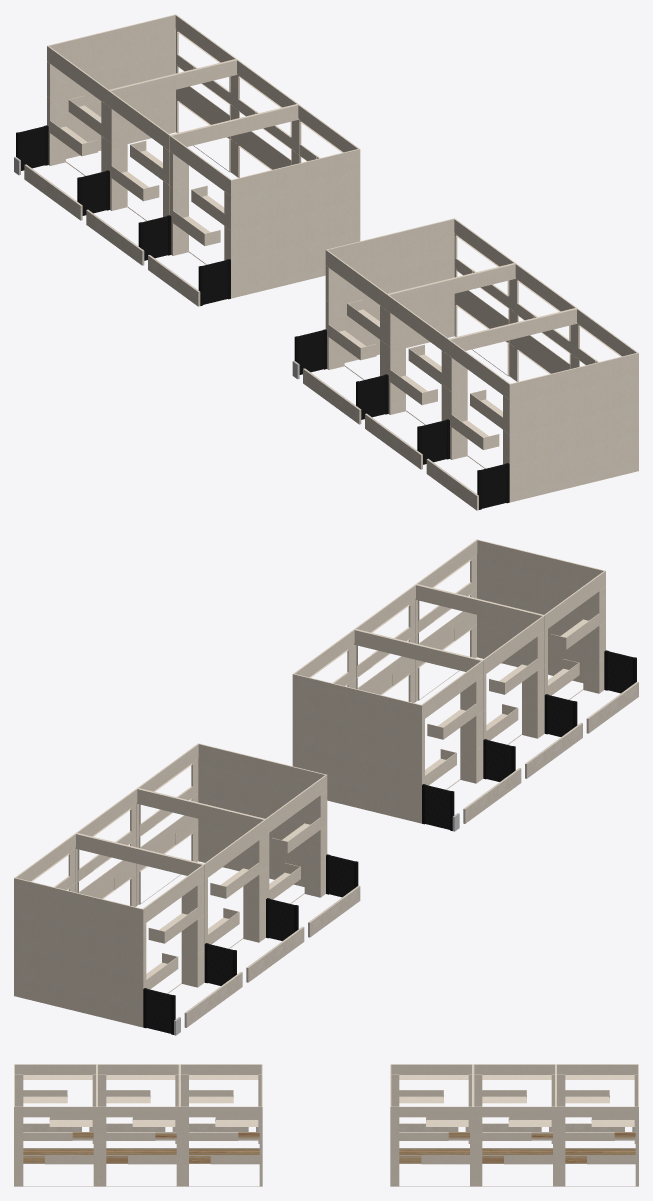
File: Wooden_Fence & TownHouse.fbx
The picture shows the model from 3 angles, top to bottom: view 1: azimuth 30°, elevation 25°; view 2: azimuth 150°, elevation 25°; view 3: azimuth 270°, elevation 25°; orthographic projection. The views are drawn at different scales.
Parts seen in each view (by area): view 1: SM_Kimpenski_SideBuilding_01, SM_Kimpenski_SideBuilding_002, SM_Kimpenski_SideBuilding_WF_02, SM_Kimpenski_SideBuilding_WF_01; view 2: SM_Kimpenski_SideBuilding_002, SM_Kimpenski_SideBuilding_01, SM_Kimpenski_SideBuilding_WF_01, SM_Kimpenski_SideBuilding_WF_02; view 3: SM_Kimpenski_SideBuilding_01, SM_Kimpenski_SideBuilding_002.
Boxes of the visible parts, x1=… form: SM_Kimpenski_SideBuilding_01: x1=292, y1=218, x2=638, y2=510; SM_Kimpenski_SideBuilding_002: x1=14, y1=14, x2=360, y2=306; SM_Kimpenski_SideBuilding_WF_02: x1=16, y1=125, x2=230, y2=305; SM_Kimpenski_SideBuilding_WF_01: x1=294, y1=329, x2=509, y2=509; SM_Kimpenski_SideBuilding_002: x1=14, y1=743, x2=360, y2=1035; SM_Kimpenski_SideBuilding_01: x1=292, y1=539, x2=638, y2=831; SM_Kimpenski_SideBuilding_WF_01: x1=422, y1=650, x2=636, y2=830; SM_Kimpenski_SideBuilding_WF_02: x1=143, y1=854, x2=358, y2=1034; SM_Kimpenski_SideBuilding_01: x1=14, y1=1064, x2=262, y2=1186; SM_Kimpenski_SideBuilding_002: x1=390, y1=1064, x2=638, y2=1186.
Bounding box in the file's own units: 1546 × 1075 × 7643.
